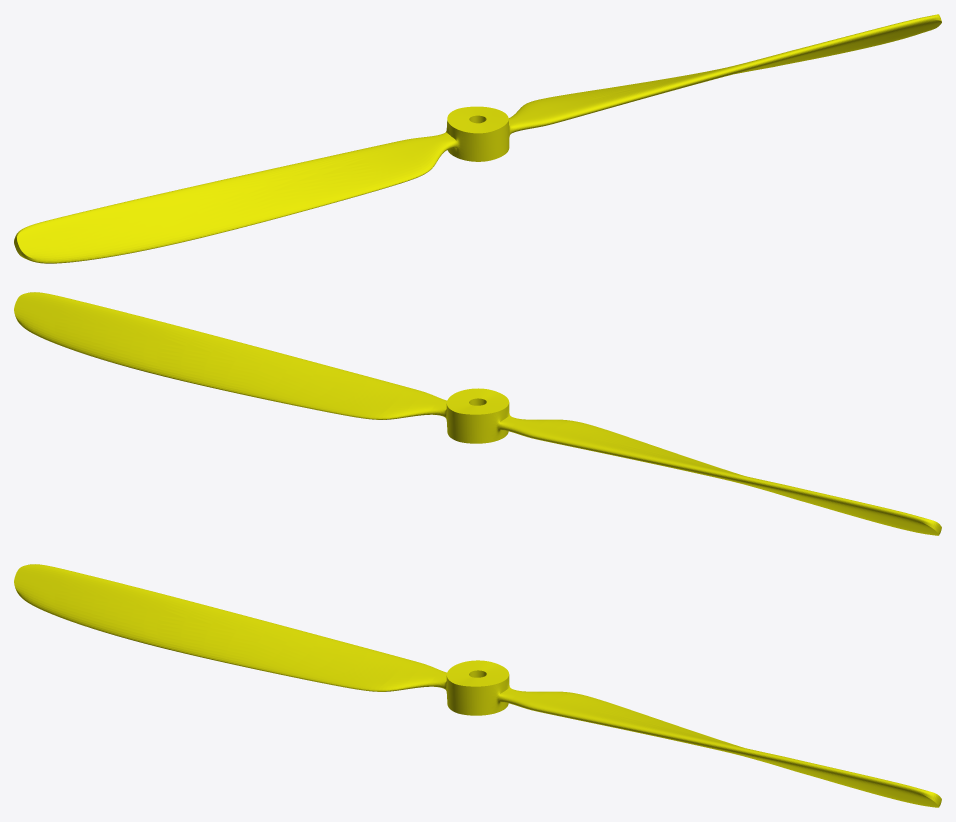
Rendered from propellerCW.dae.
The picture shows the model from 3 angles, top to bottom: view 1: azimuth 30°, elevation 25°; view 2: azimuth 150°, elevation 25°; view 3: azimuth 330°, elevation 25°; orthographic projection.
Visible parts, largest first — view 1: Cylinder.001; view 2: Cylinder.001; view 3: Cylinder.001.
Part boxes in pixels (x1,y1,x2,y2): Cylinder.001: (14,14,941,263); Cylinder.001: (14,292,941,535); Cylinder.001: (14,564,941,807).
Bounding box in the file's own units: 1.7 × 0.1565 × 0.0631.
